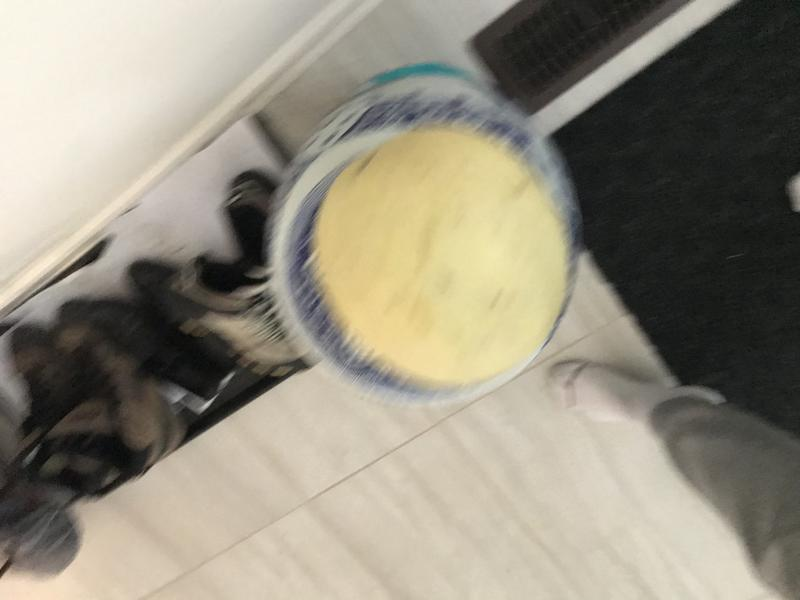honeydew: (305, 118, 580, 403)
